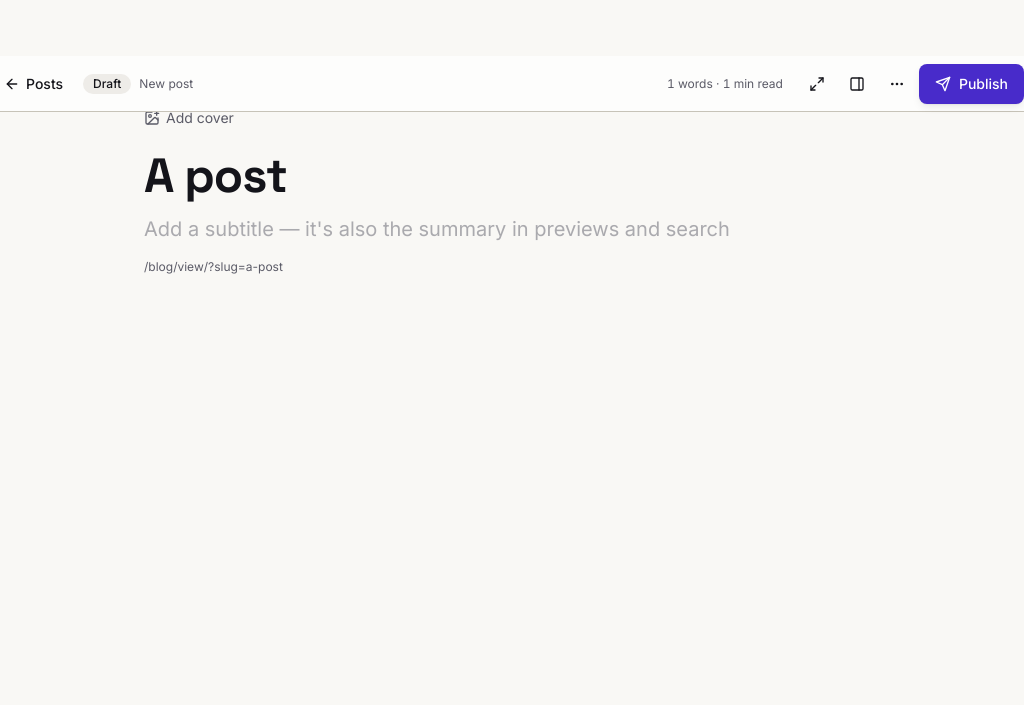
Test: BlogEditor — the page › opens the settings, where the slug is
The width and height of the screenshot is (1024, 705).
Click the button named "Post settings" at {"x": 857, "y": 84}, box [839,66,875,102]
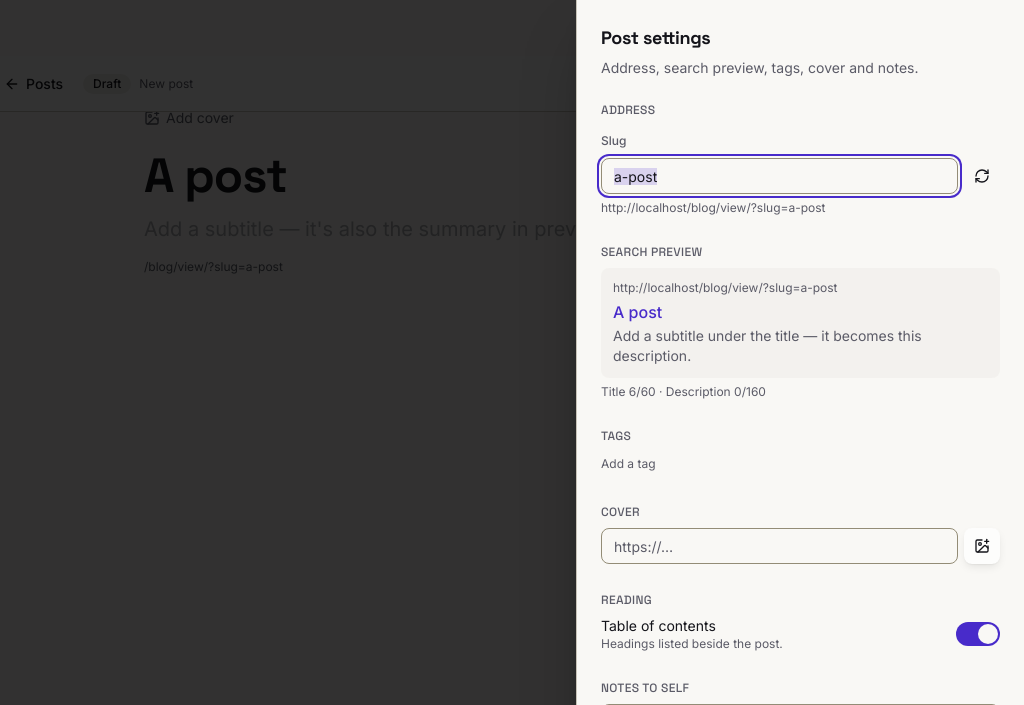
Check: the field labelled "Slug" holds "a-post", box [601,158,958,194]
